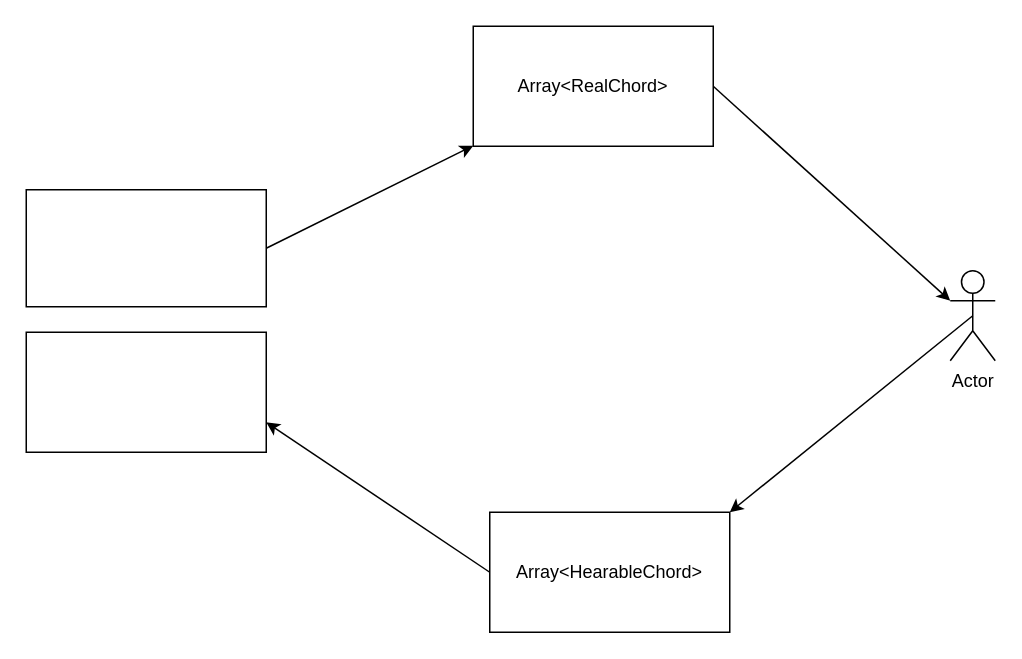
This 1022x659 diagram has some shape labels left out. Here are the shapes that lost their labels. From the top down, the box of each, then its label:
(25, 188, 266, 307): EXTENSION
(25, 331, 266, 452): HANDLER
